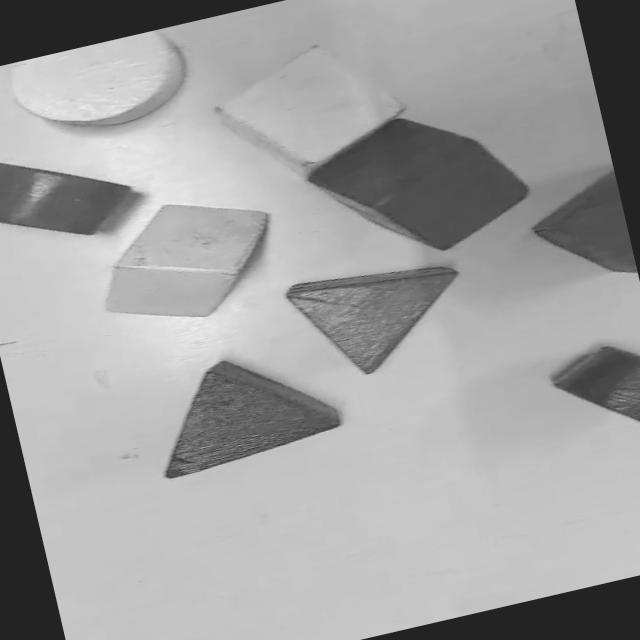bcircle: (551, 345, 639, 421)
btriangle: (163, 361, 340, 478)
rcircle: (0, 162, 130, 234)
rcube: (306, 117, 527, 249)
rtriangle: (285, 266, 457, 373)
ycircle: (9, 30, 184, 124)
ycube: (215, 45, 403, 173), (104, 204, 267, 316)
